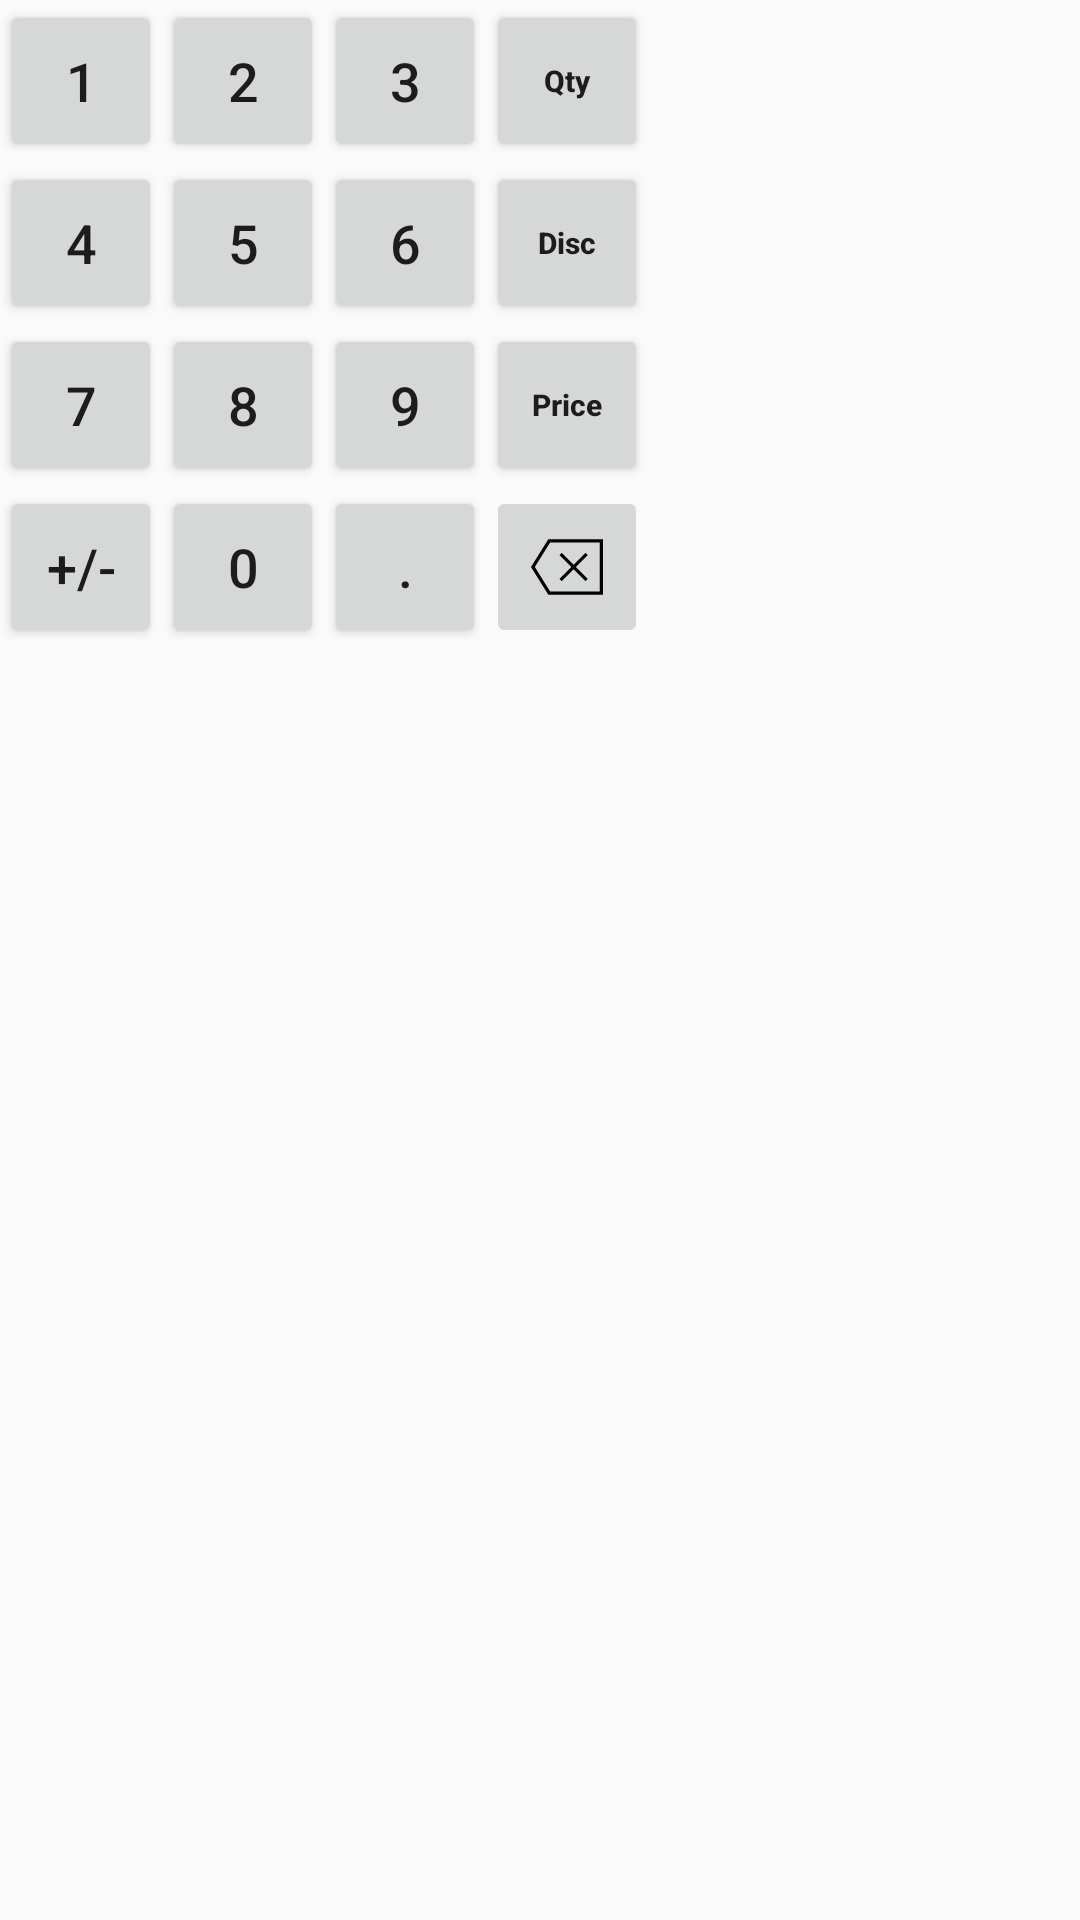

Where icons sit on this 1080w x 1920h app screen, as (x1, y1, x2, y2):
backspace: (498, 504, 636, 630)
